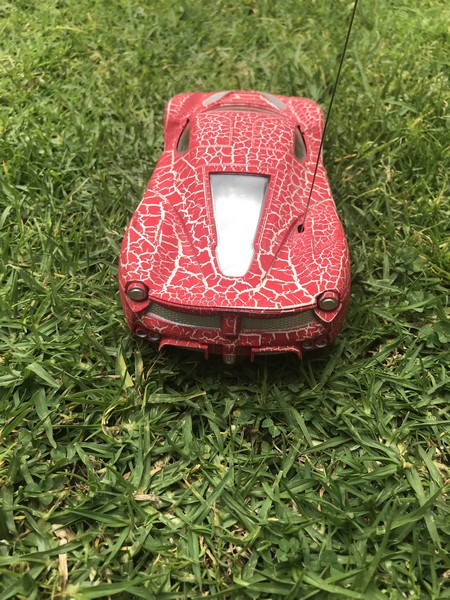RC: (116, 88, 356, 367)
